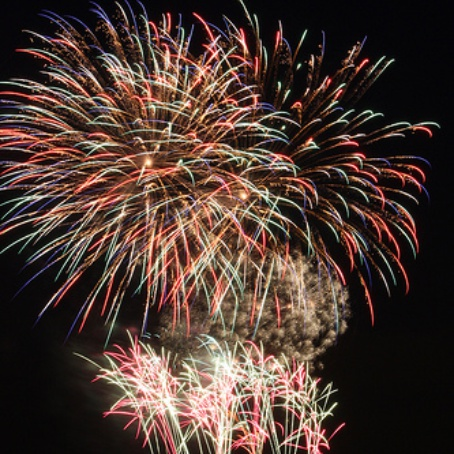fireworks: (1, 7, 447, 454)
